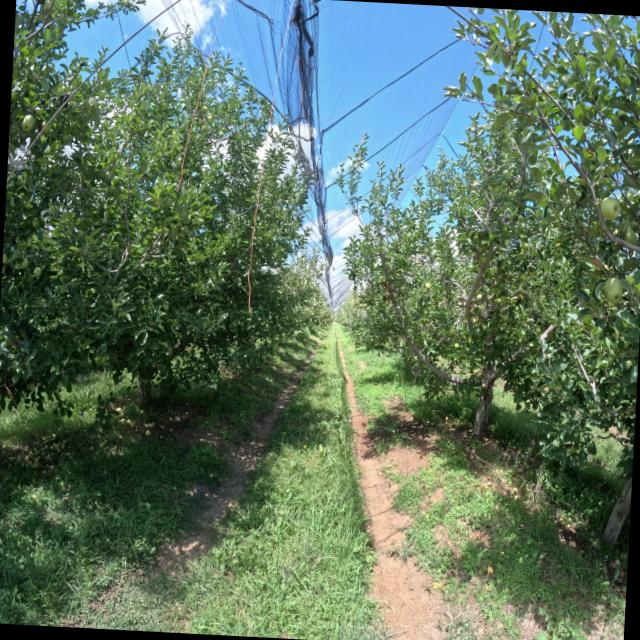-FireBlight-: (383, 280, 395, 303)
